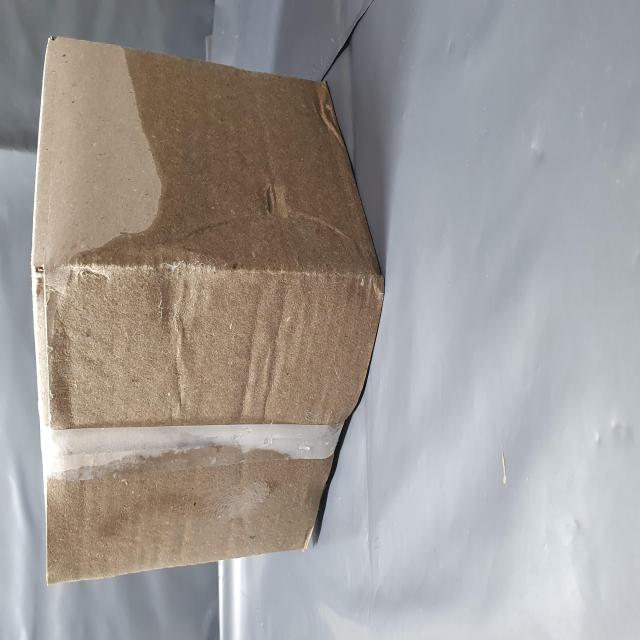wet: (123, 73, 325, 640), (34, 76, 102, 562)
